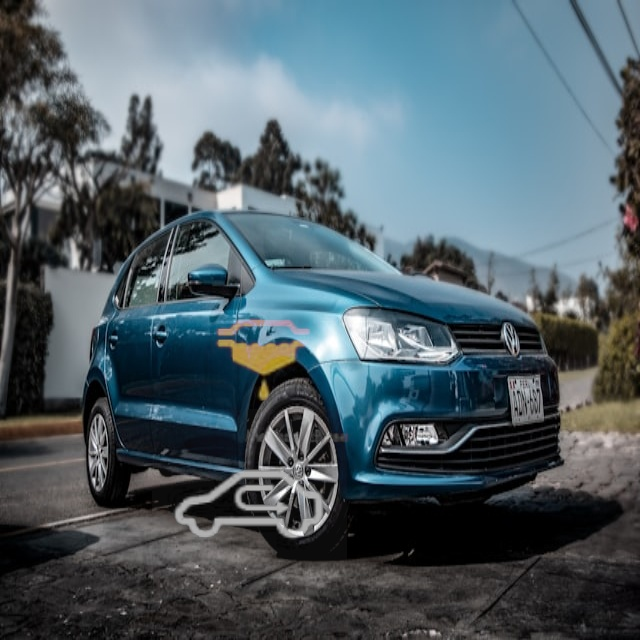symbol: (152, 409, 347, 604), (175, 271, 355, 451)
